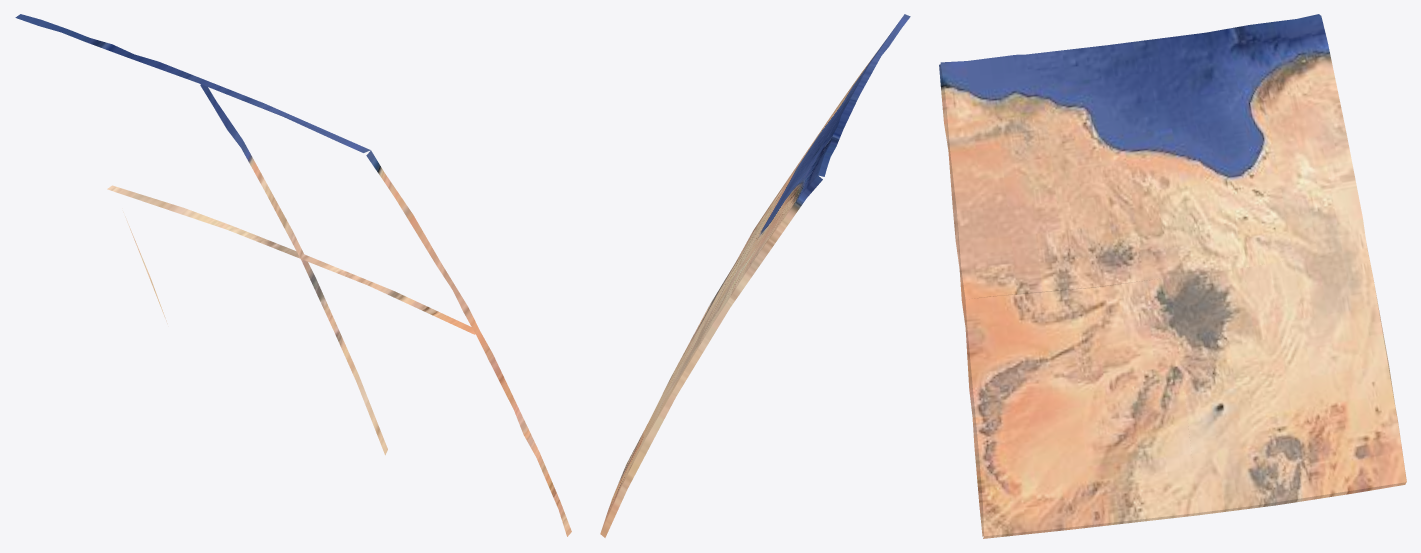
3 views of the same model, side by side, from view 1: azimuth 30°, elevation 25°; view 2: azimuth 150°, elevation 25°; view 3: azimuth 270°, elevation 25° (orthographic). The views are drawn at different scales.
Size of the model in its own units: 900752 by 1116678 by 1231973.
1 material, 1 textured.
